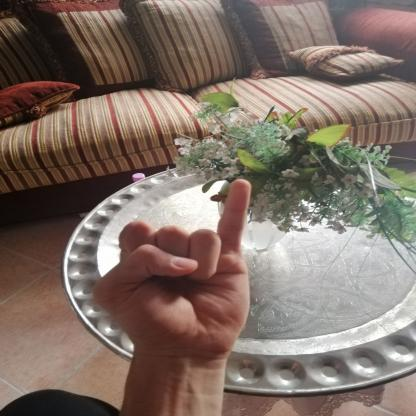MEEM: (76, 167, 268, 370)
